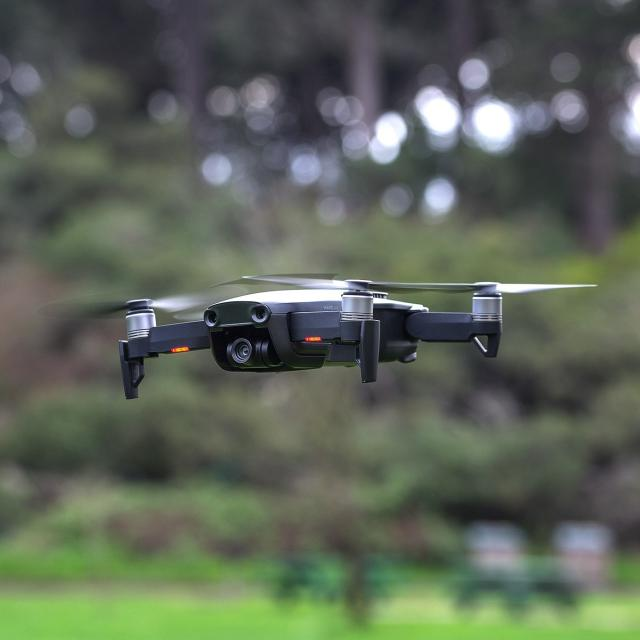drone: (65, 244, 578, 425)
